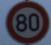Speed Limit -80-: (0, 0, 50, 44)
